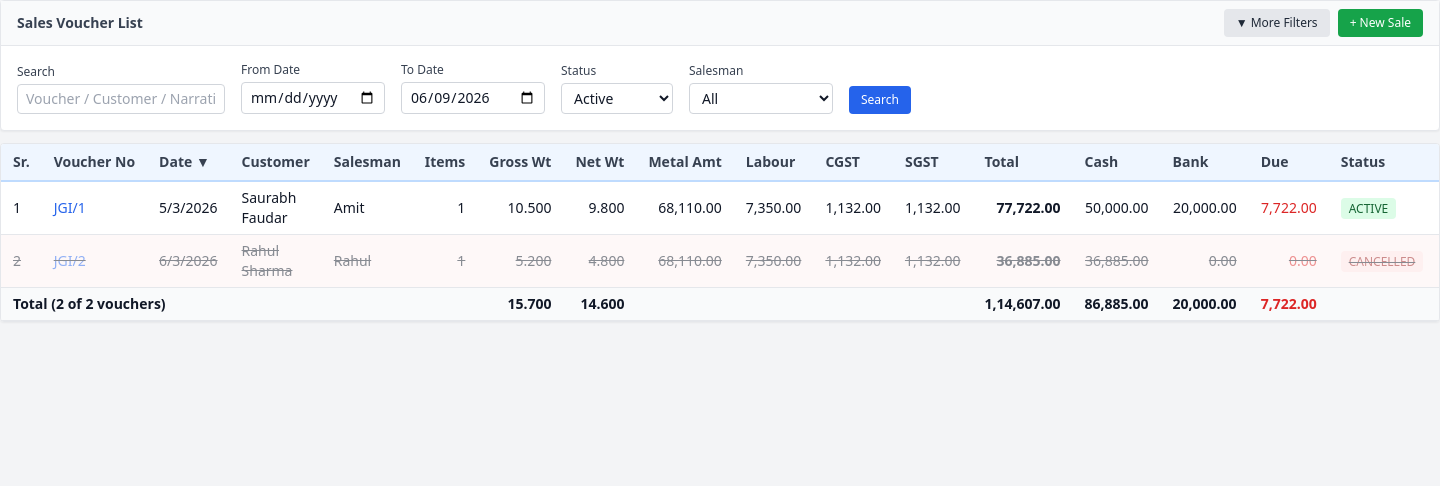
SalesEntryList advanced filters › toggles advanced filters on button click
This screenshot has width=1440, height=486.
Click the button with test id "toggle-advanced". click: (1277, 23)
box: x1=1224 y1=9 x2=1330 y2=37
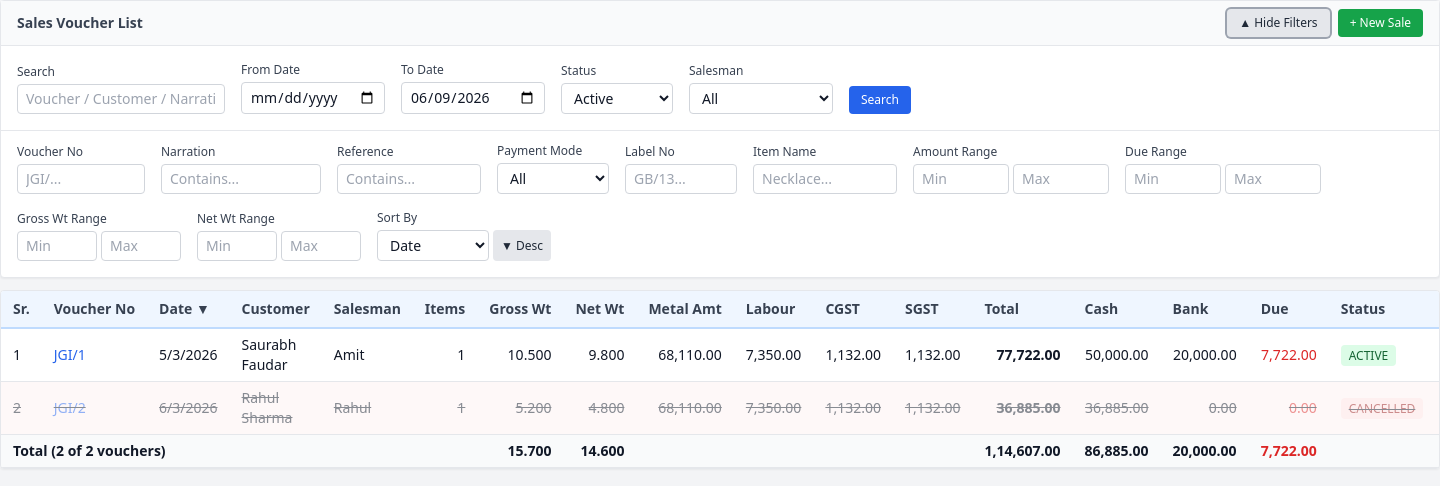
Check: the element with test id "advanced-filters" is shown, box x1=1 y1=130 x2=1439 y2=277
Click the button with test id "toggle-advanced". click: (1278, 23)
box: x1=1227 y1=9 x2=1330 y2=37
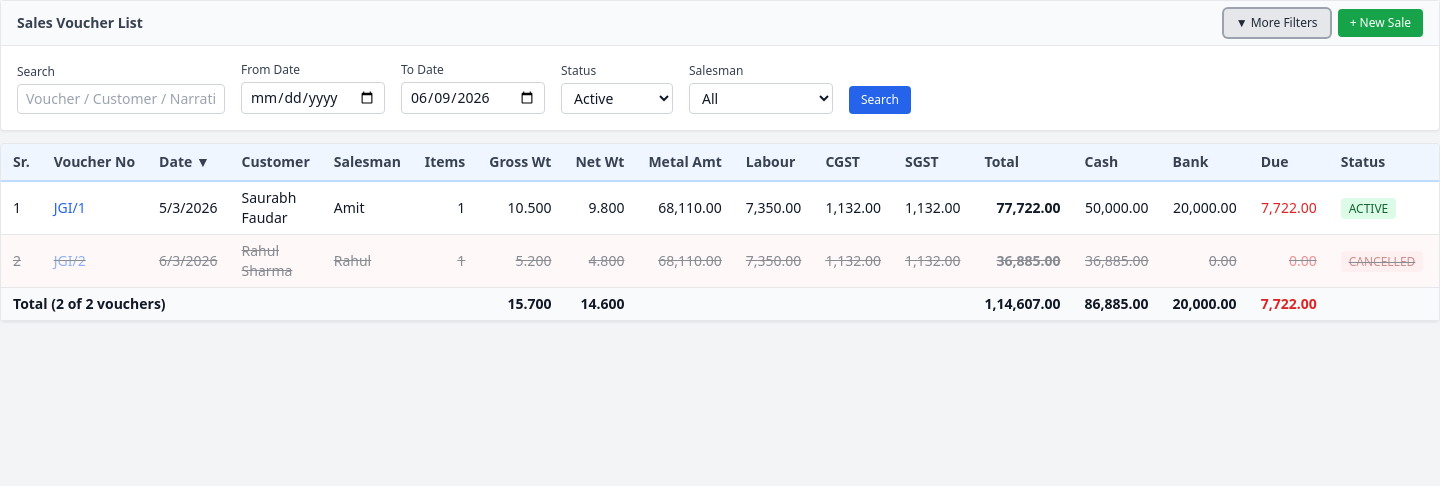
Check: the element with test id "advanced-filters" is gone
